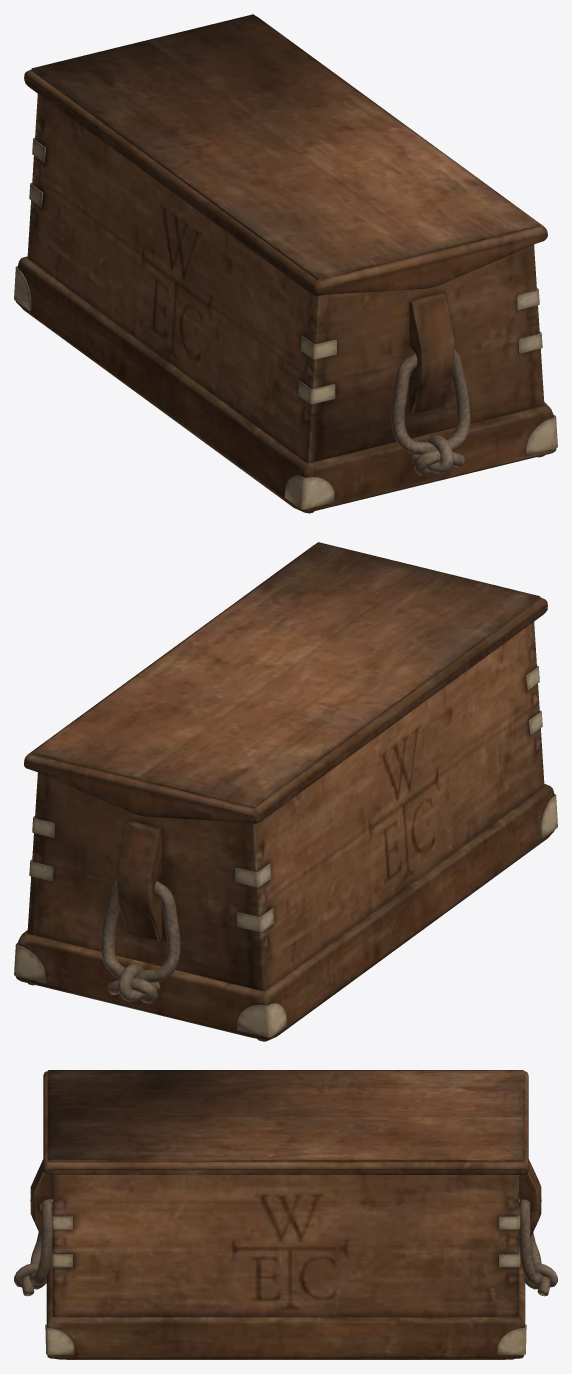
Rendered from crateWood.glb.
The picture shows the model from 3 angles, top to bottom: view 1: azimuth 30°, elevation 25°; view 2: azimuth 150°, elevation 25°; view 3: azimuth 270°, elevation 25°; orthographic projection. The views are drawn at different scales.
Parts seen in each view (by area): view 1: wooden_crate_02_crate, wooden_crate_02_lid; view 2: wooden_crate_02_crate, wooden_crate_02_lid; view 3: wooden_crate_02_crate, wooden_crate_02_lid.
Boxes of the visible parts, box(x1,y1,x2,y2) form: wooden_crate_02_crate: box(14, 94, 557, 513); wooden_crate_02_lid: box(24, 14, 547, 296); wooden_crate_02_crate: box(14, 621, 557, 1041); wooden_crate_02_lid: box(24, 542, 547, 823); wooden_crate_02_crate: box(14, 1159, 557, 1359); wooden_crate_02_lid: box(43, 1070, 528, 1174).
Size of the model in its own units: 0.5291 by 0.464 by 1.17.
1 material, 1 textured.
